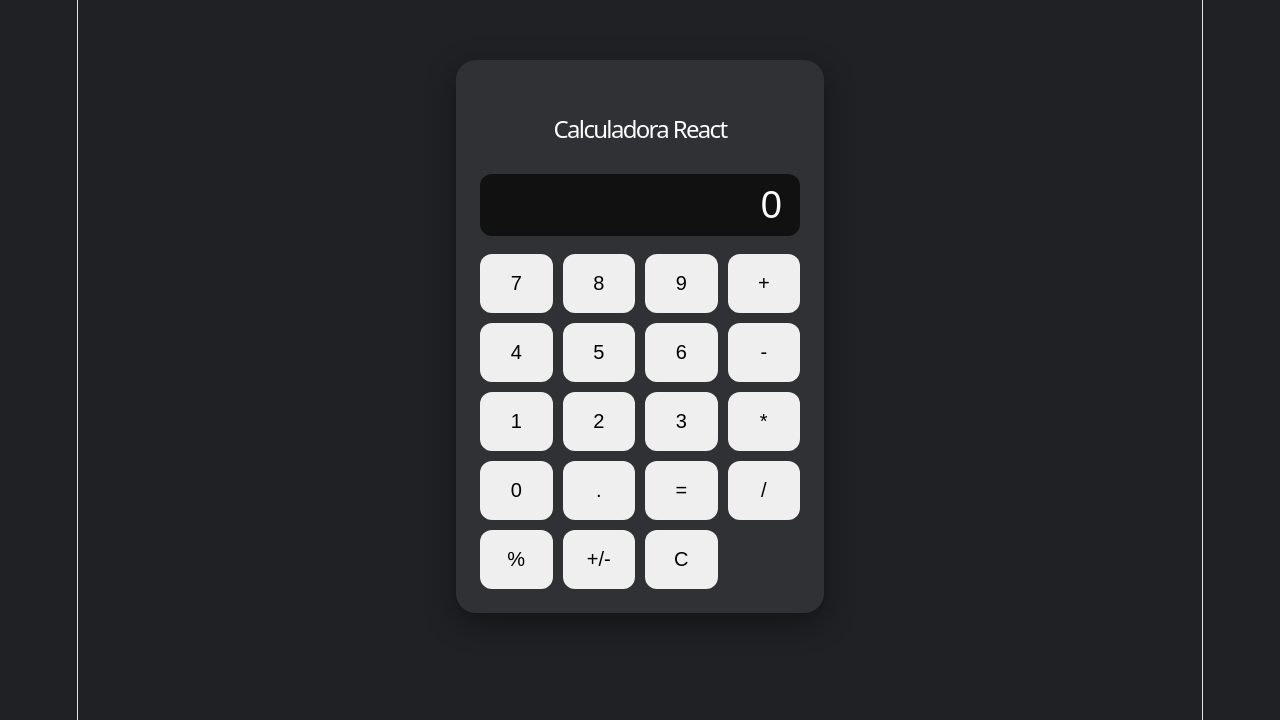
Test: realiza una suma correctamente
This screenshot has width=1280, height=720.
Click the button named "Botón 2": (599, 422) top-left (562, 392), bottom-right (635, 451)
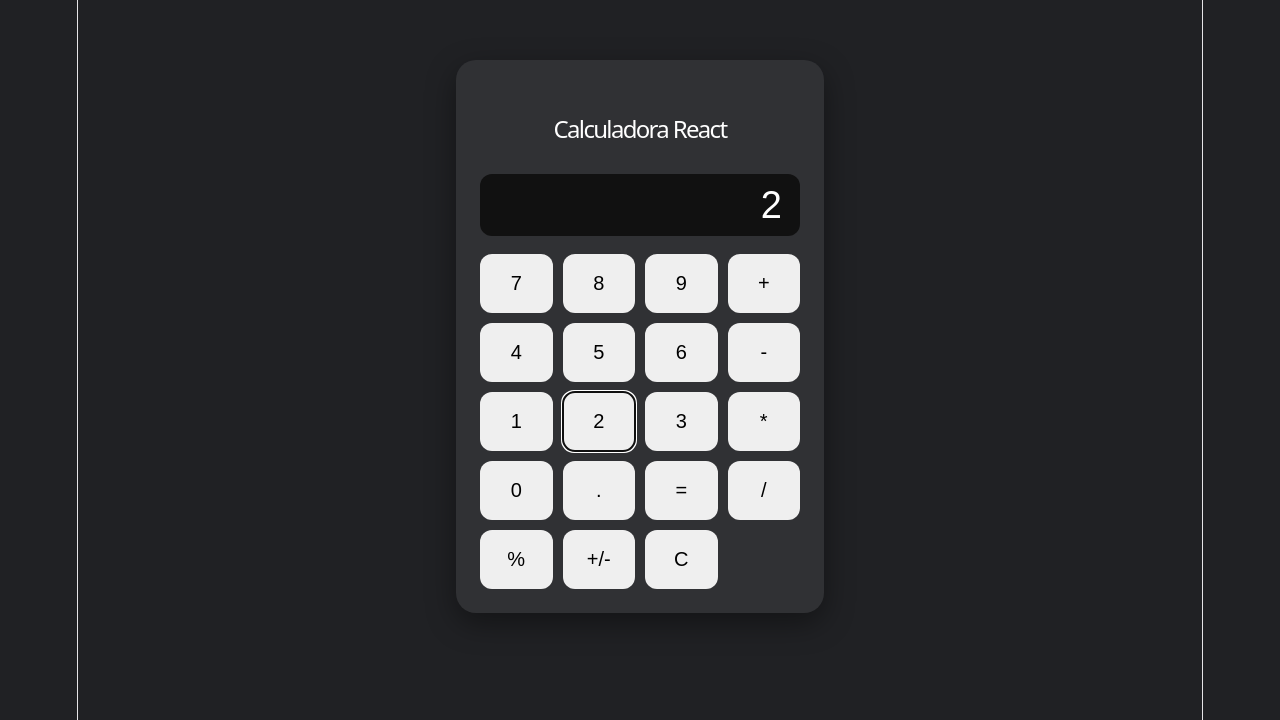
Click the button named "Botón +": (764, 284) top-left (728, 254), bottom-right (800, 313)
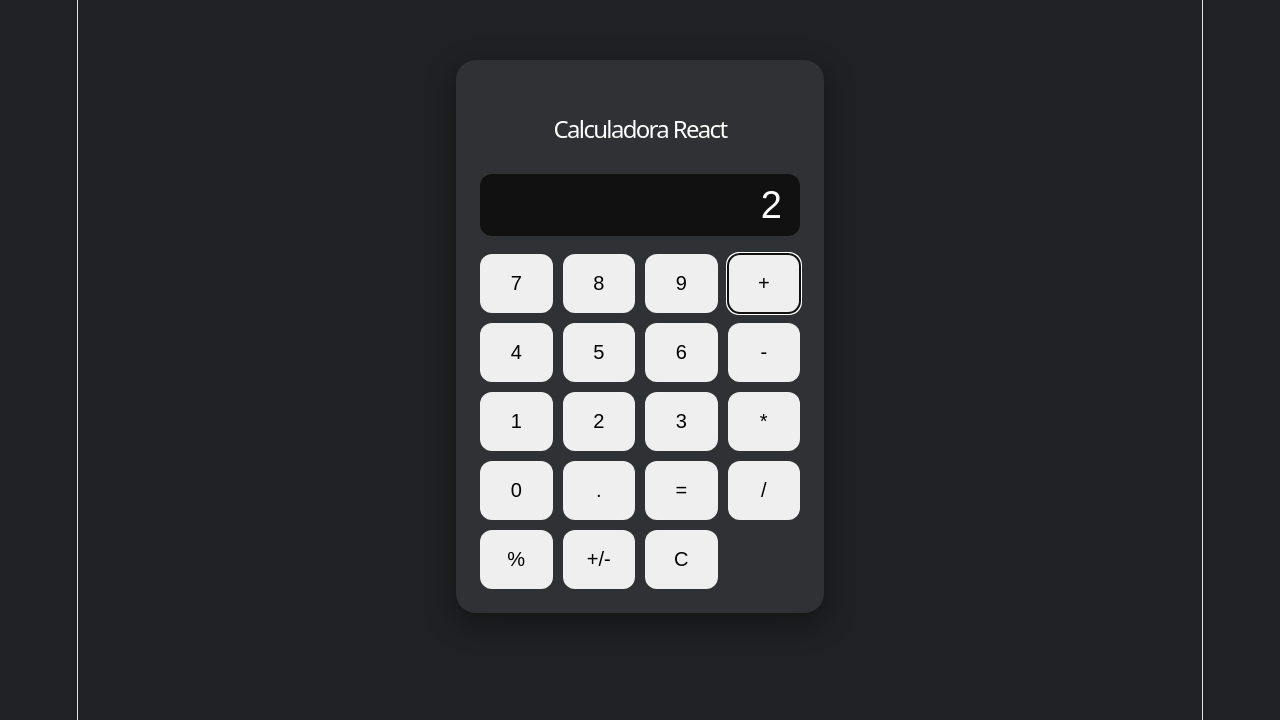
Click the button named "Botón 3": (681, 422) top-left (645, 392), bottom-right (718, 451)
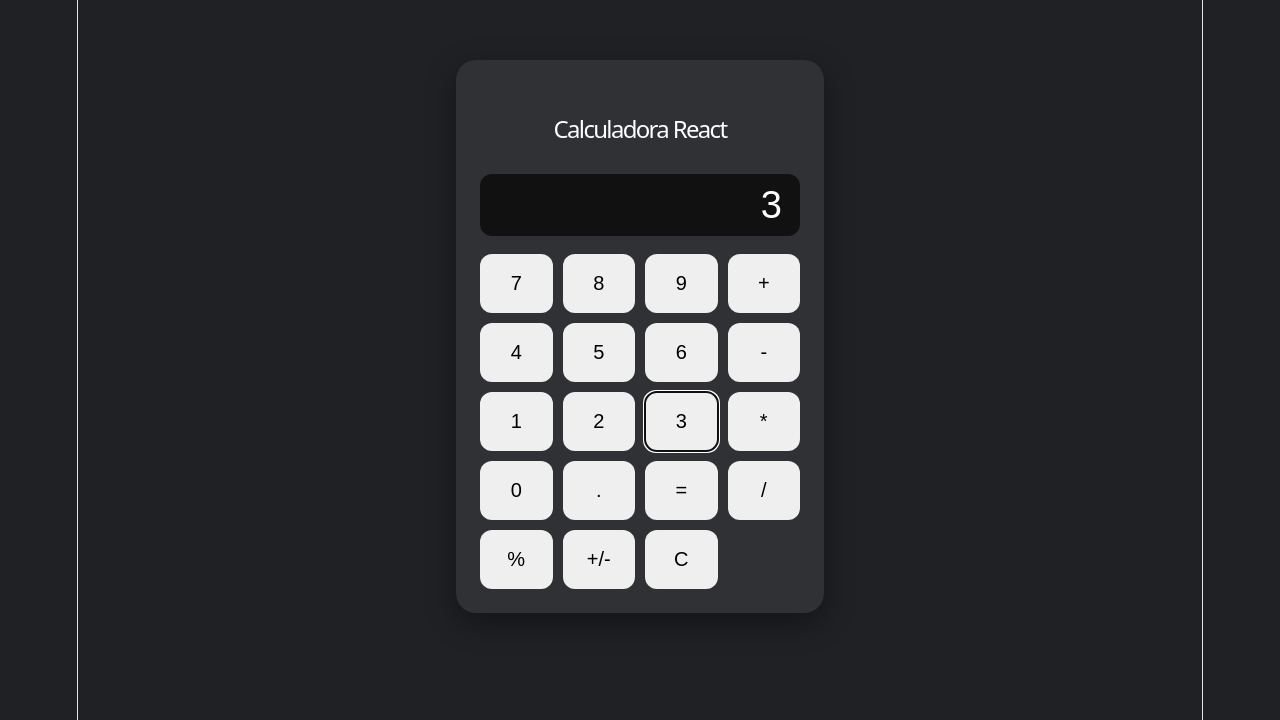
Click the button named "Botón =": (681, 491) top-left (645, 461), bottom-right (718, 520)
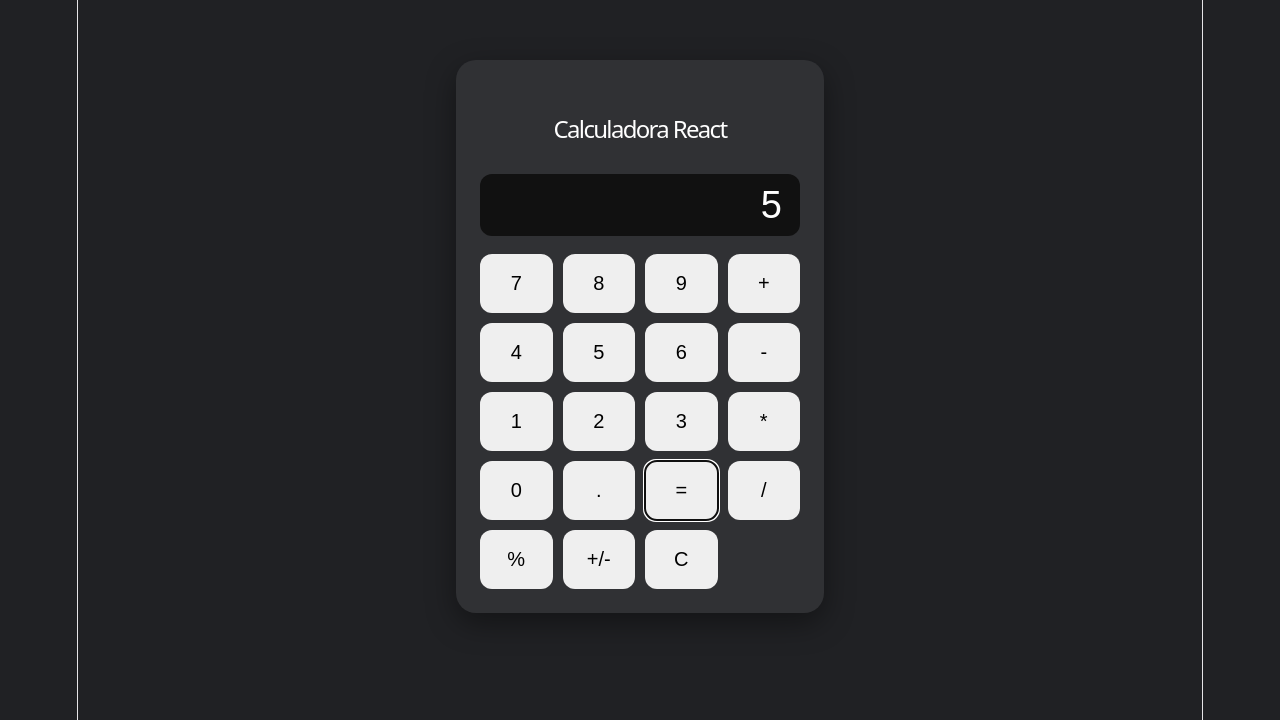
expect the text with class "display" reads "5": met, box top-left (761, 184), bottom-right (782, 226)
